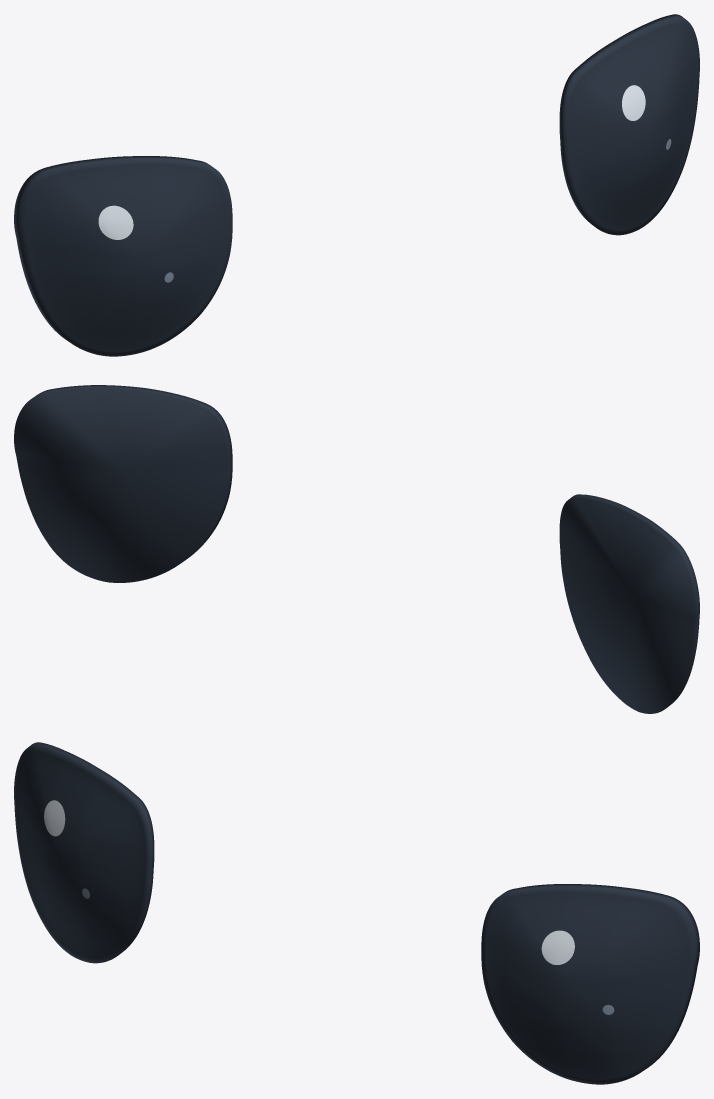
File: Feminine-Feminine-eyes-hooded-1096c1e2.glb
3 renders of one model, top to bottom at view 1: azimuth 30°, elevation 25°; view 2: azimuth 150°, elevation 25°; view 3: azimuth 330°, elevation 25°, orthographic.
Visible parts, largest first — view 1: 226 eyes / Eye / smoky charcoal181, 226 eyes / Eye highlight181; view 2: 226 eyes / Eye / smoky charcoal181; view 3: 226 eyes / Eye / smoky charcoal181, 226 eyes / Eye highlight181.
Part boxes in pixels (left/top/right/bottom): 226 eyes / Eye / smoky charcoal181: left=14, top=14, right=699, bottom=356; 226 eyes / Eye highlight181: left=98, top=85, right=645, bottom=239; 226 eyes / Eye / smoky charcoal181: left=14, top=385, right=699, bottom=713; 226 eyes / Eye / smoky charcoal181: left=14, top=742, right=699, bottom=1084; 226 eyes / Eye highlight181: left=44, top=800, right=574, bottom=964.
Bounding box in the file's own units: 0.3686 × 0.1008 × 0.0424.
